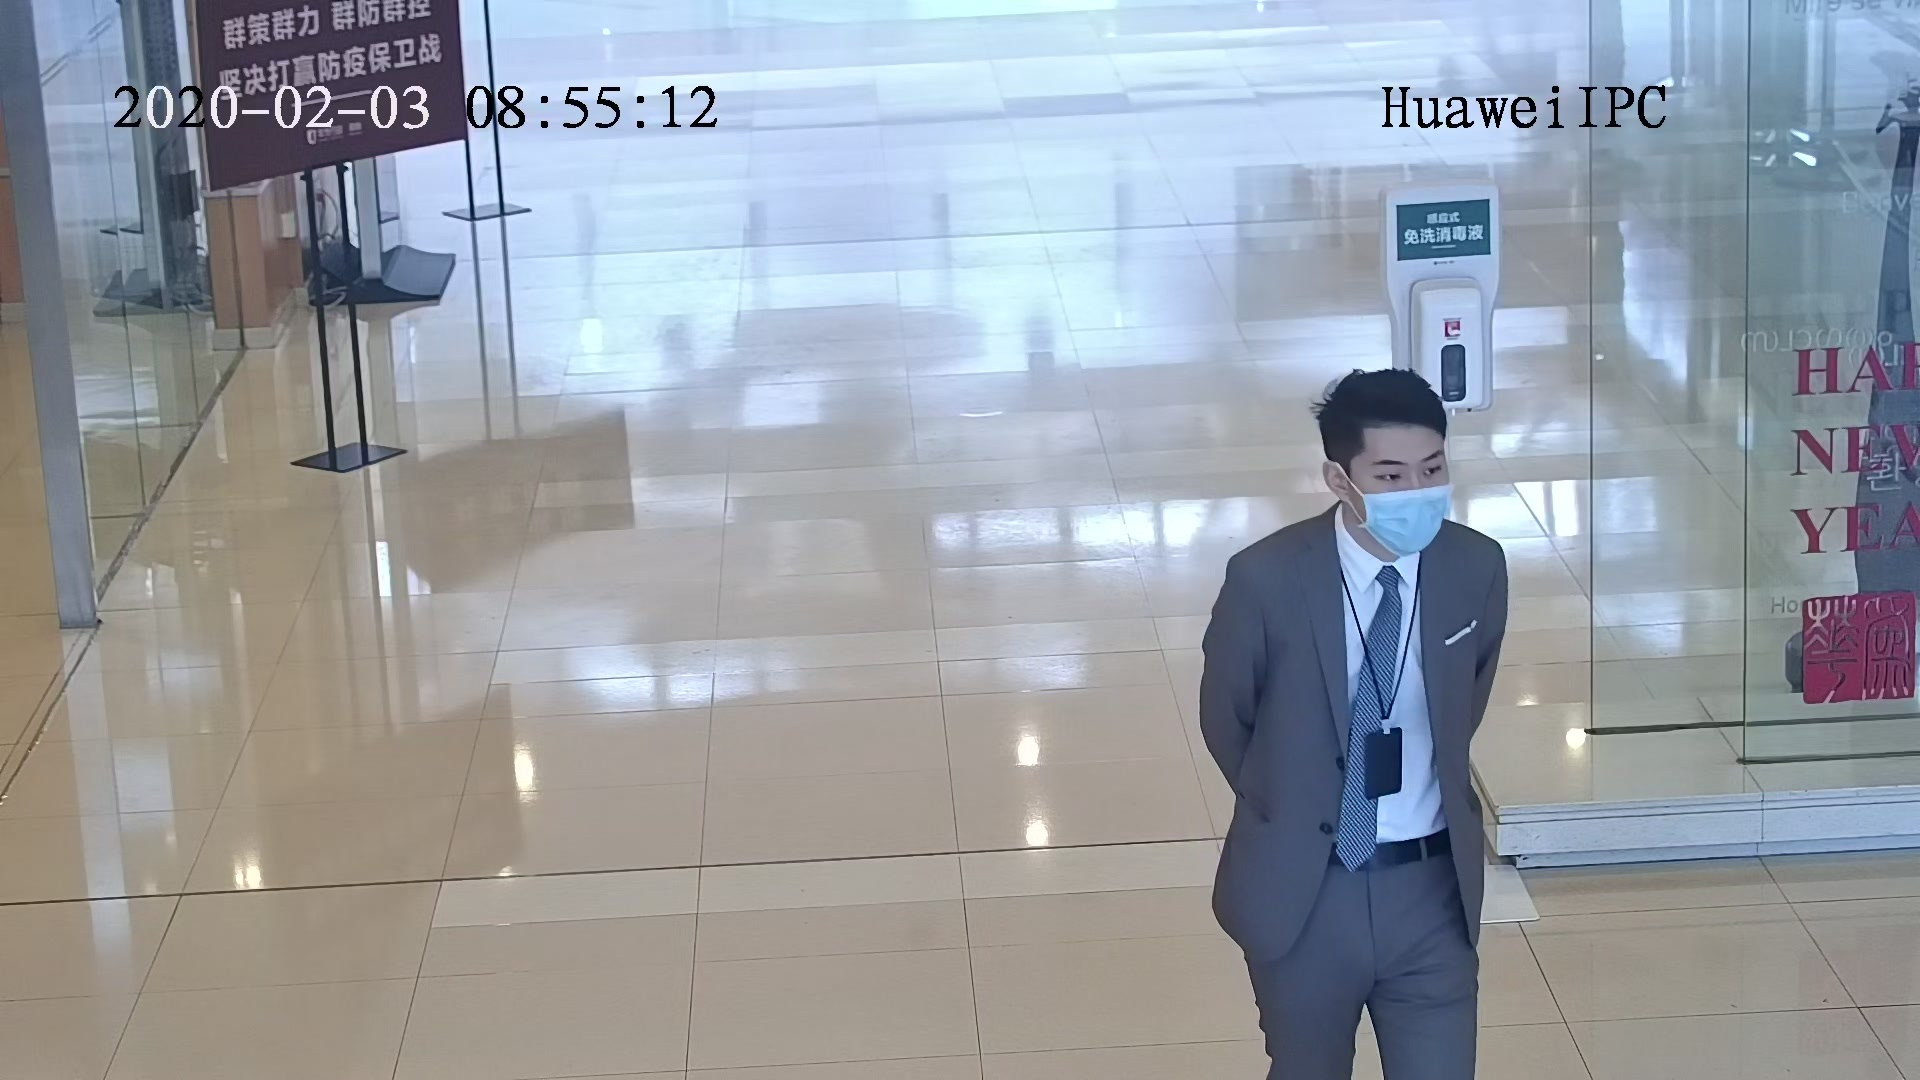face: (1346, 427, 1451, 554)
mask: (1361, 488, 1449, 554)
person: (1215, 360, 1507, 619)
